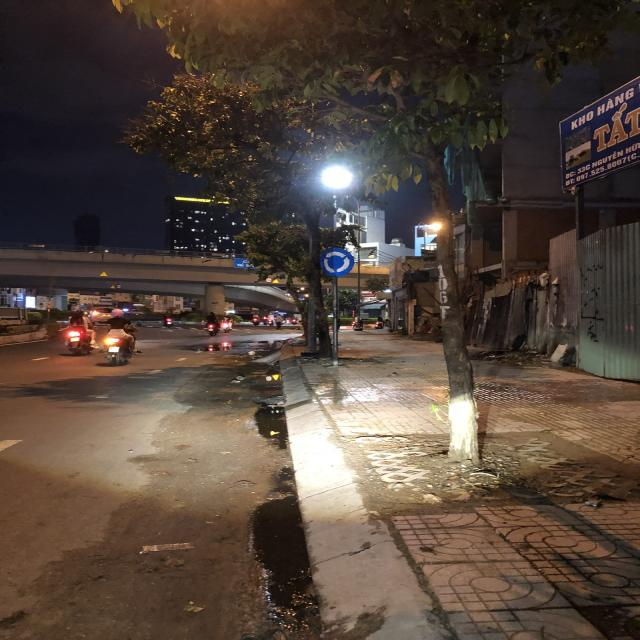Bien bao noi giao nhau chay theo vong xuyen: (315, 245, 356, 278)
